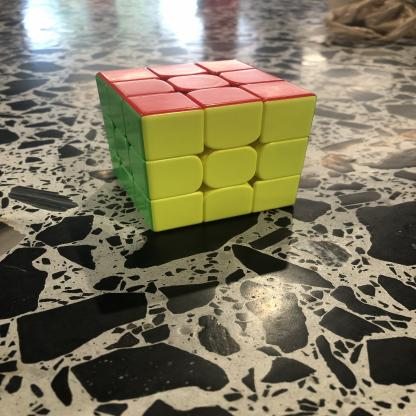SolvedCube: (90, 56, 321, 245)
